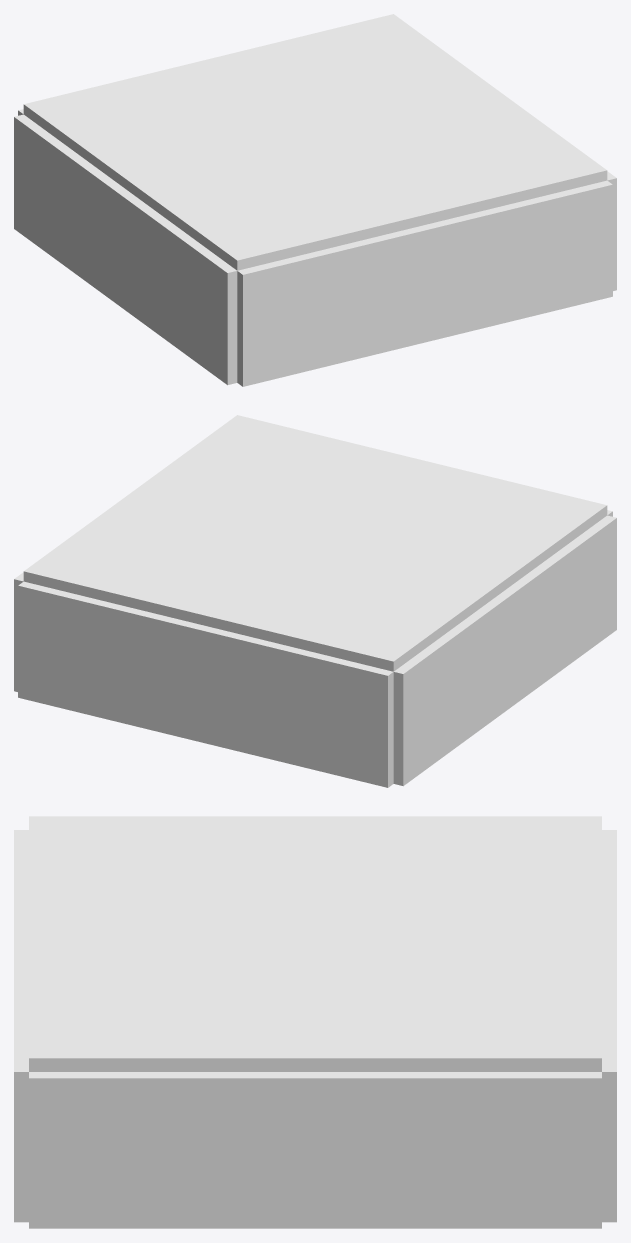
The model's file is GroundOverlayTile.obj.
3 renders of one model, top to bottom at view 1: azimuth 30°, elevation 25°; view 2: azimuth 150°, elevation 25°; view 3: azimuth 270°, elevation 25°, orthographic. The views are drawn at different scales.
Bounding box in the file's own units: 40 × 12 × 40.
Materials: 1 (1 with a texture image).
